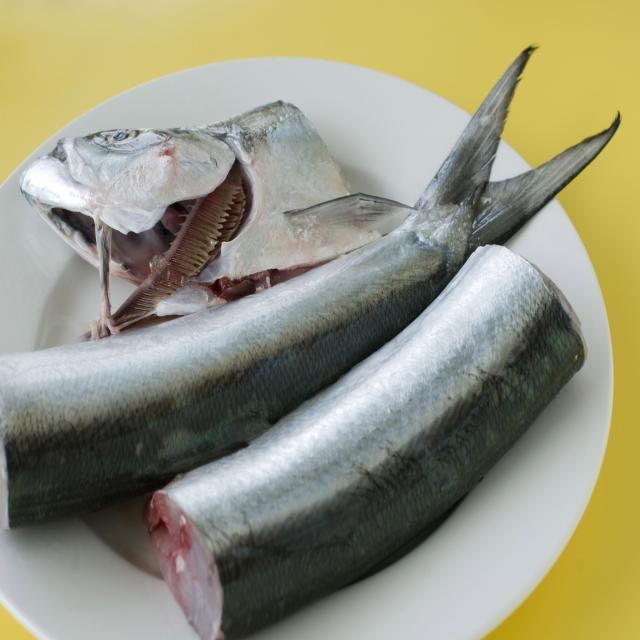fish: (0, 48, 618, 526), (145, 244, 585, 639), (19, 100, 379, 338)
